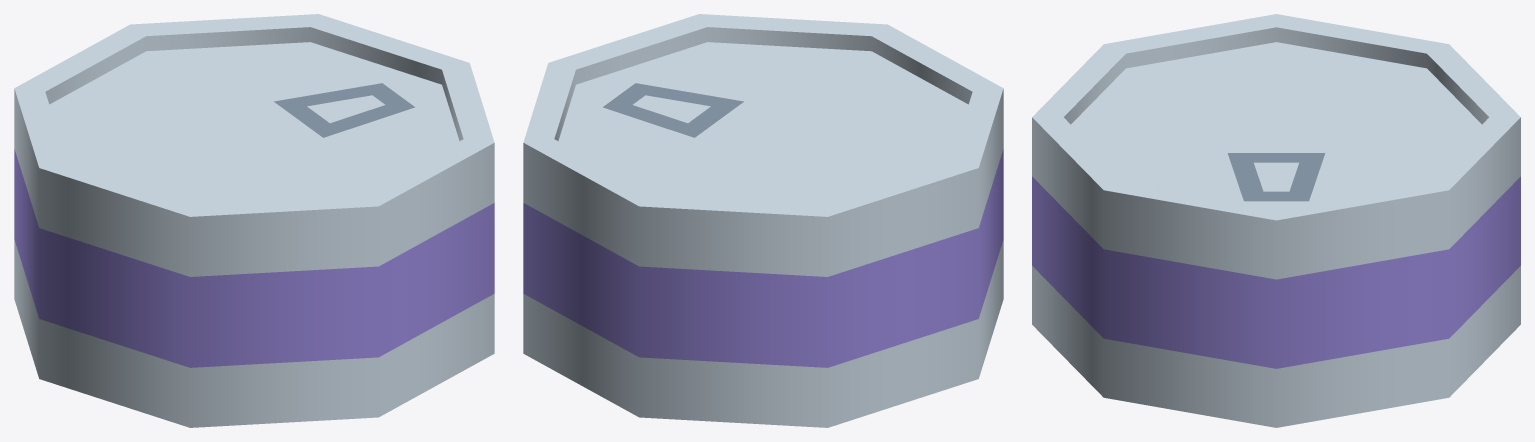
Rendered from Can Small.glb.
3 views of the same model, side by side, from view 1: azimuth 30°, elevation 25°; view 2: azimuth 150°, elevation 25°; view 3: azimuth 270°, elevation 25° (orthographic).
Visible parts, largest first — view 1: Can Small; view 2: Can Small; view 3: Can Small.
Part boxes in pixels (<box>): Can Small: <box>14,14,494,427</box>; Can Small: <box>523,14,1003,427</box>; Can Small: <box>1032,14,1520,427</box>.
Bounding box in the file's own units: 0.132 × 0.0618 × 0.132.
